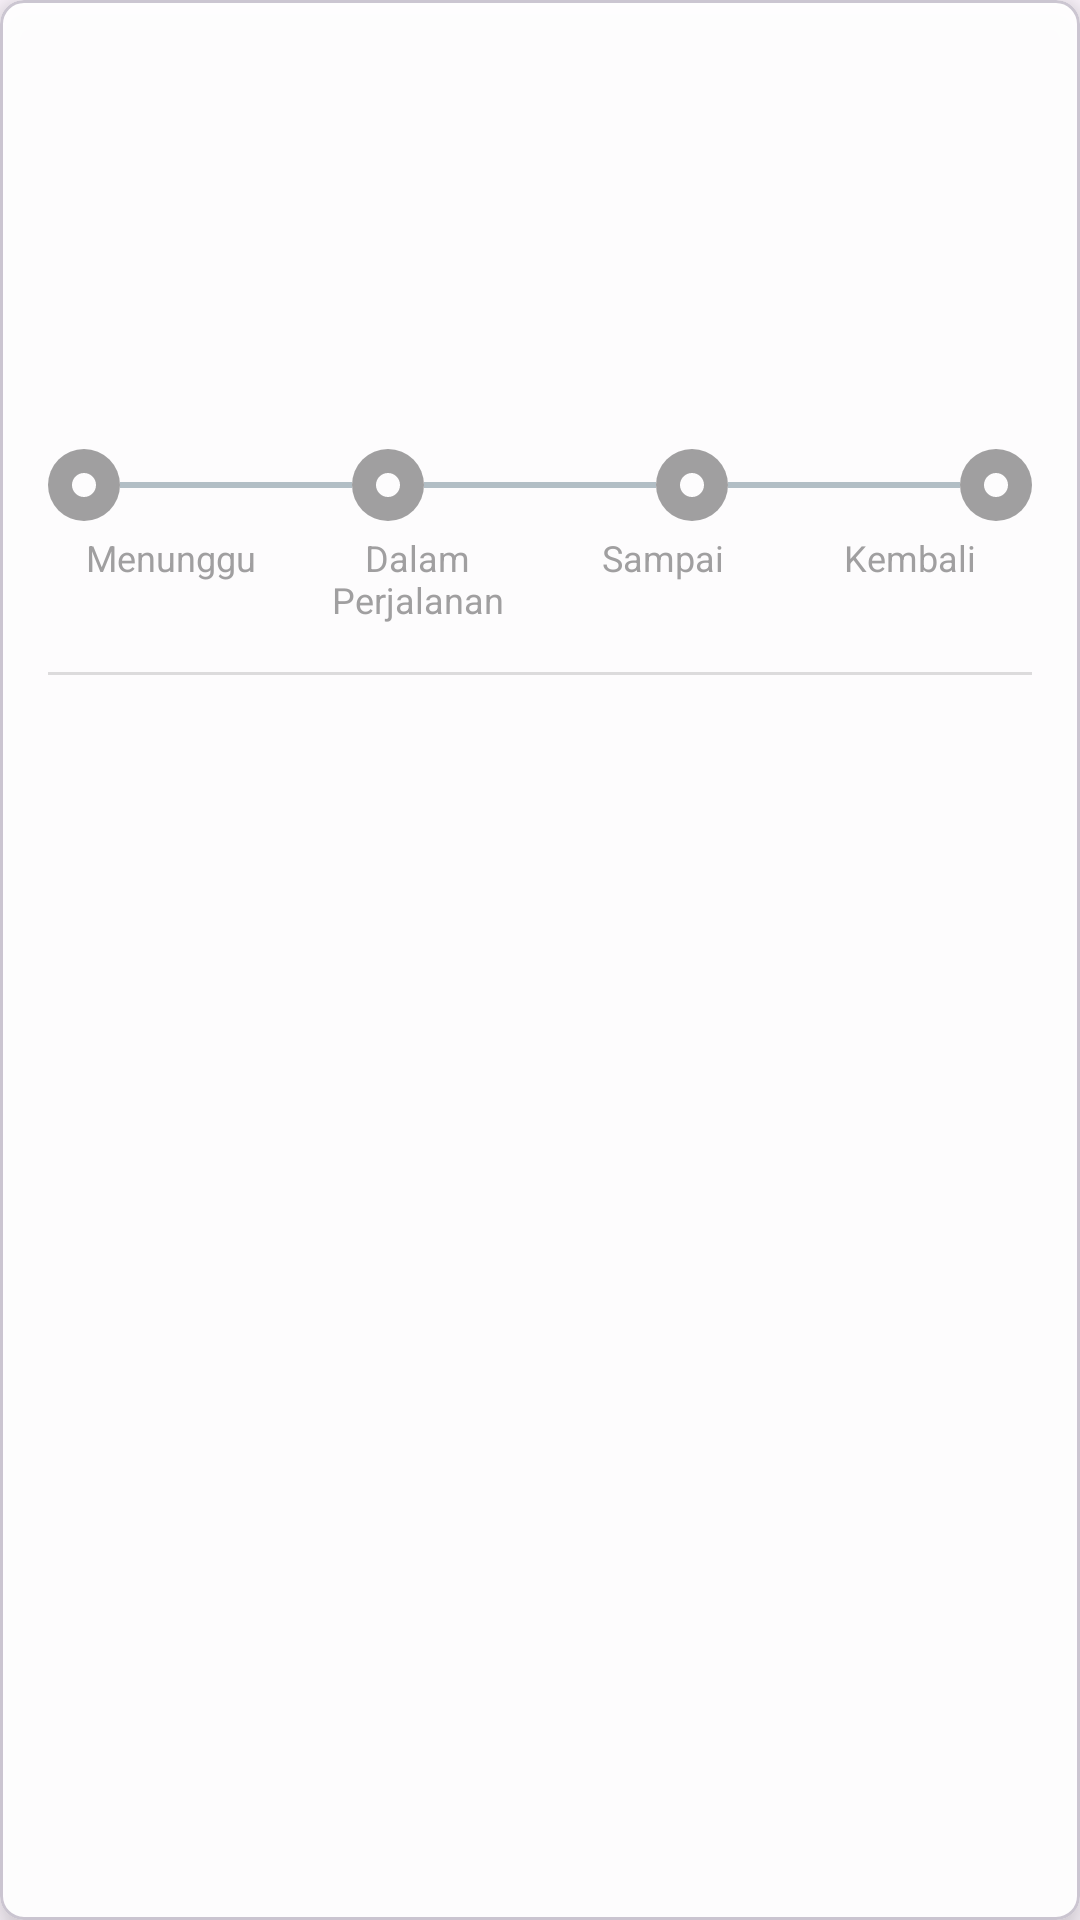

Icon click points for this 1080px x 1920px phone screenshot, format (x,y):
circle progress: (84,485), (388,485), (692,485), (996,485)
